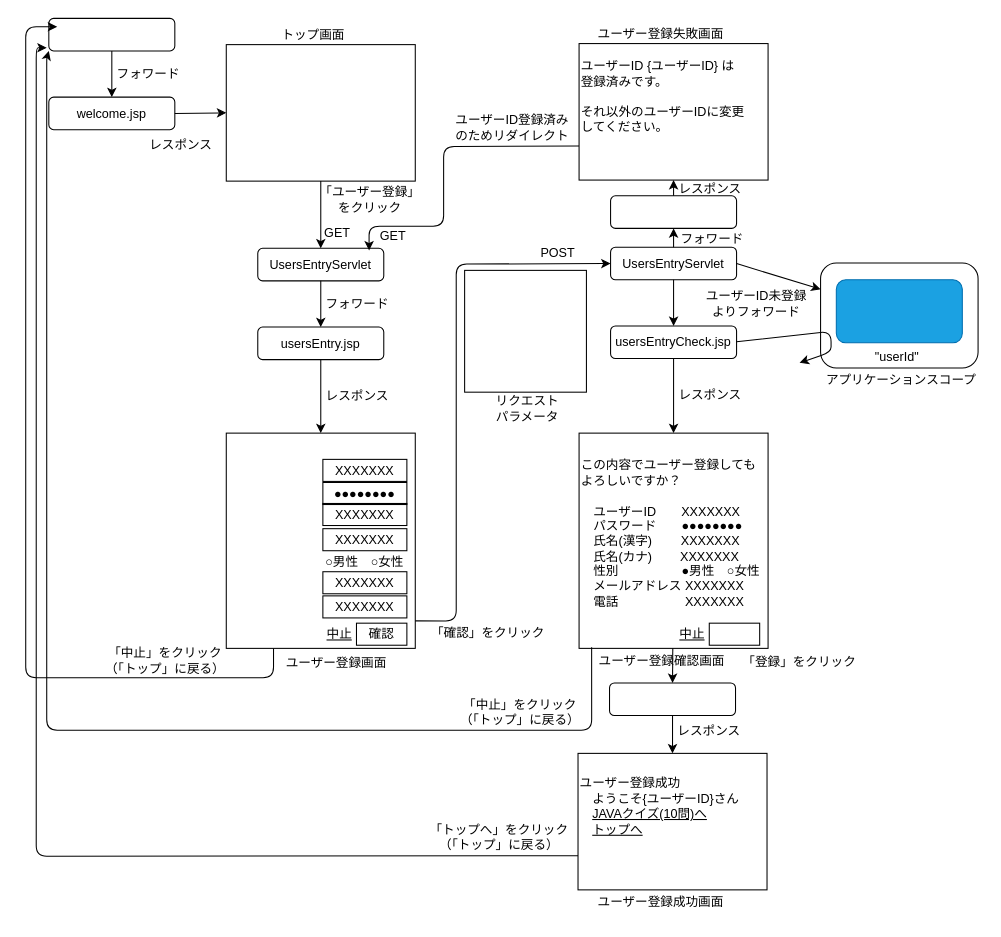
The diagram is 1001 pixels wide and 937 high, and some of its shapes have lost their labels. Here are the shapes that lost their labels. From the top down, the box of each, then its label:
(48, 17, 175, 51): WelcomeServlet
(225, 44, 415, 181): メニュー ・ ログイン ・ ユーザー登録
(610, 195, 737, 228): usersEntryNG.jsp
(464, 269, 586, 392): userId pass nameKanji nameKana sex mail tel
(835, 279, 962, 343): ユーザーID
(225, 432, 415, 648): ユーザー登録 ユーザーID パスワード 氏名(漢字) 氏名(カナ) 性別 メールアドレス 電話
(708, 622, 760, 645): 登録
(608, 682, 736, 716): usersEntryOK.jsp
